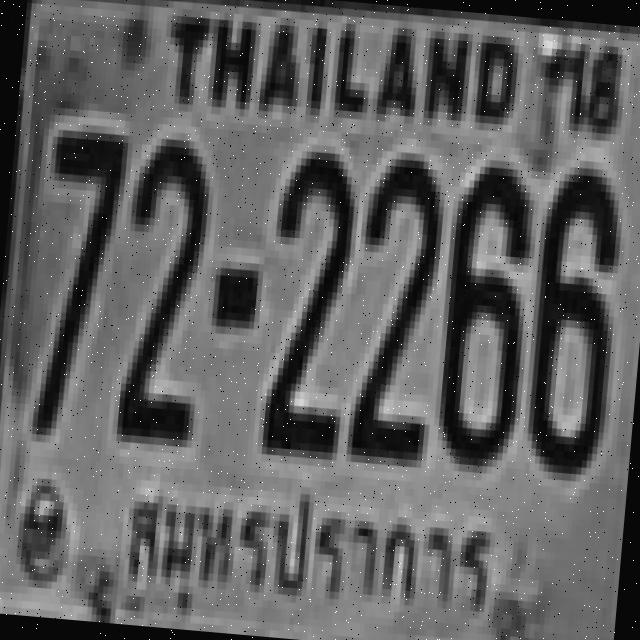2: (341, 148, 443, 460), (110, 132, 210, 436), (256, 142, 356, 444), (344, 149, 443, 431)
6: (520, 161, 622, 472), (431, 160, 532, 464)
7: (27, 126, 124, 436)
SamutPrakan: (105, 463, 509, 629)
